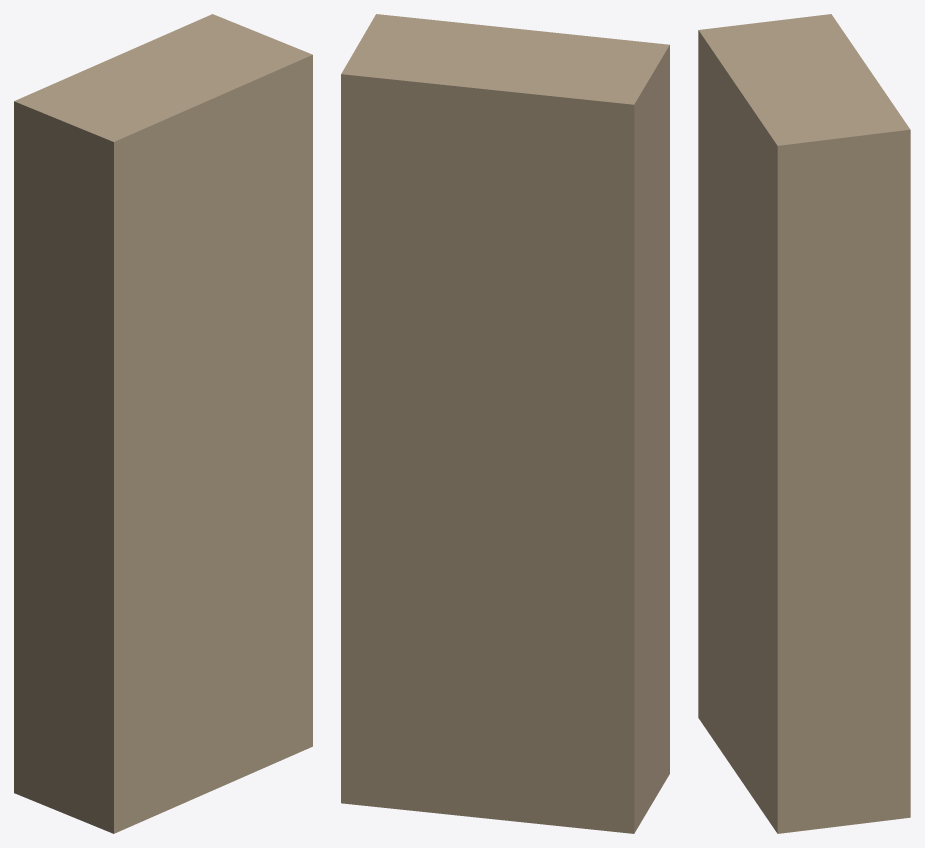
File: bld_393484274.dae
3 views of the same model, side by side, from view 1: azimuth 30°, elevation 25°; view 2: azimuth 150°, elevation 25°; view 3: azimuth 270°, elevation 25° (orthographic). The views are drawn at different scales.
Parts seen in each view (by area): view 1: bld_393484274; view 2: bld_393484274; view 3: bld_393484274.
Boxes of the visible parts, x1,y1,x2,y2 form: bld_393484274: [14, 14, 312, 833]; bld_393484274: [341, 14, 669, 833]; bld_393484274: [698, 14, 910, 833].
Bounding box in the file's own units: 3.29 × 2.23 × 8.
